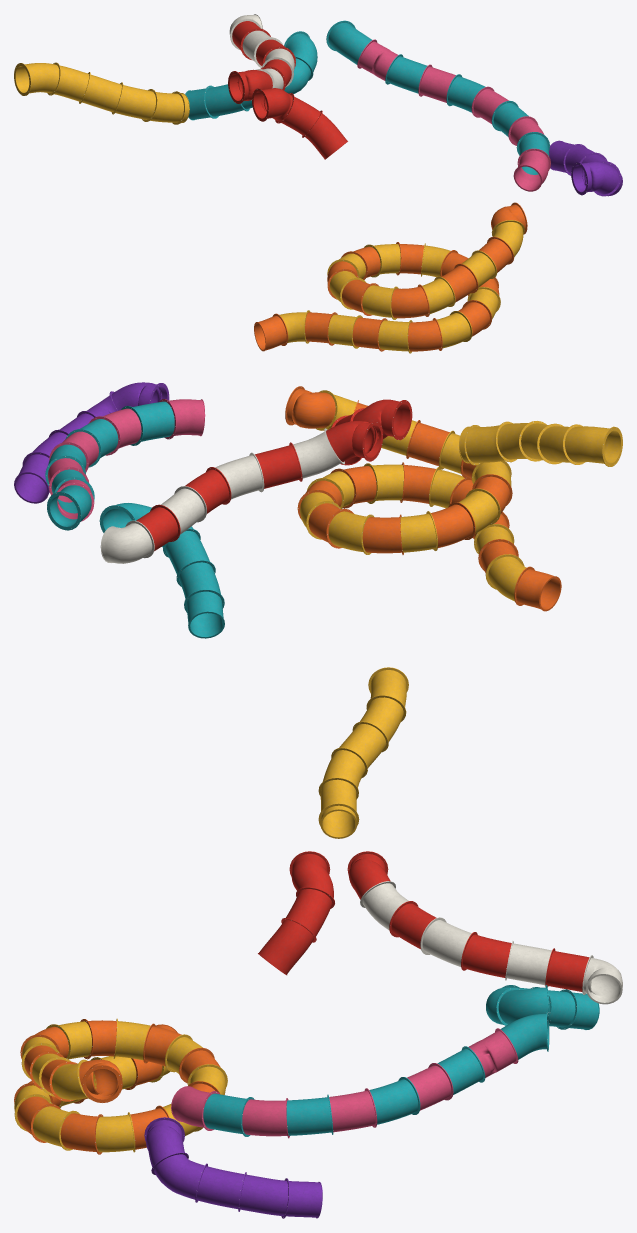
File: inseguimento_tubi.glb
The picture shows the model from 3 angles, top to bottom: view 1: azimuth 30°, elevation 25°; view 2: azimuth 150°, elevation 25°; view 3: azimuth 270°, elevation 25°; orthographic projection. The views are drawn at different scales.
Parts seen in each view (by area): view 1: ins_A_tubo_3, ins_A_tubo_2, ins_A_tubo_0, ins_A_tubo_1, ins_A_scolo_0, ins_A_scolo_1, ins_A_scolo_2; view 2: ins_A_tubo_3, ins_A_tubo_1, ins_A_tubo_2, ins_A_tubo_0, ins_A_scolo_1, ins_A_scolo_2, ins_A_scolo_0; view 3: ins_A_tubo_3, ins_A_tubo_2, ins_A_tubo_1, ins_A_scolo_2, ins_A_tubo_0, ins_A_scolo_0, ins_A_scolo_1.
Boxes of the visible parts, left/top/right/bottom form: ins_A_tubo_3: left=254, top=202, right=527, bottom=353; ins_A_tubo_2: left=326, top=20, right=550, bottom=191; ins_A_tubo_0: left=14, top=62, right=189, bottom=124; ins_A_tubo_1: left=228, top=14, right=295, bottom=103; ins_A_scolo_0: left=252, top=88, right=347, bottom=159; ins_A_scolo_1: left=185, top=31, right=317, bottom=120; ins_A_scolo_2: left=549, top=140, right=622, bottom=196; ins_A_tubo_3: left=285, top=386, right=561, bottom=611; ins_A_tubo_1: left=100, top=421, right=382, bottom=563; ins_A_tubo_2: left=45, top=399, right=205, bottom=530; ins_A_tubo_0: left=459, top=421, right=622, bottom=466; ins_A_scolo_1: left=99, top=503, right=224, bottom=638; ins_A_scolo_2: left=14, top=382, right=169, bottom=503; ins_A_scolo_0: left=331, top=399, right=412, bottom=465; ins_A_tubo_3: left=14, top=1018, right=227, bottom=1154; ins_A_tubo_2: left=171, top=1011, right=549, bottom=1138; ins_A_tubo_1: left=347, top=851, right=622, bottom=1004; ins_A_scolo_2: left=144, top=1117, right=322, bottom=1218; ins_A_tubo_0: left=318, top=667, right=408, bottom=838; ins_A_scolo_0: left=258, top=851, right=334, bottom=975; ins_A_scolo_1: left=486, top=985, right=599, bottom=1029.
Size of the model in its own units: 35.59 by 16.31 by 29.37.
8 materials, 8 textured.
